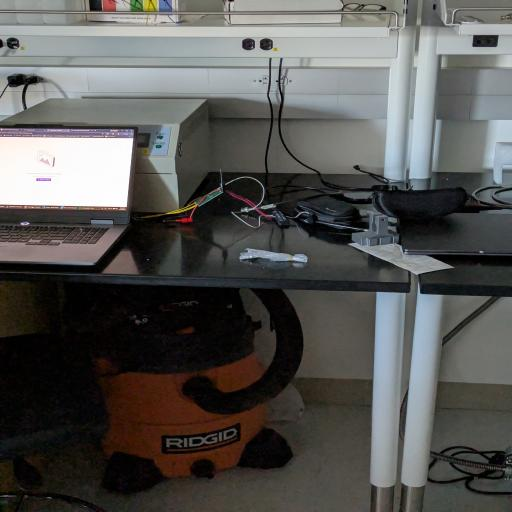rubberband: (237, 246, 310, 264)
